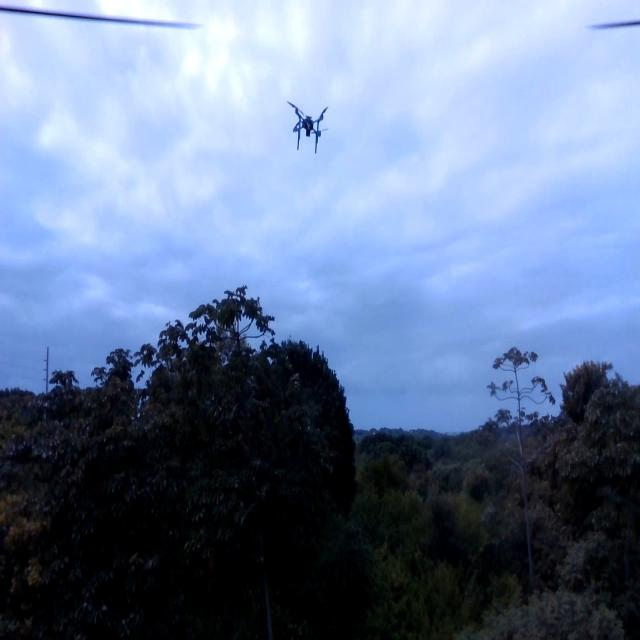-uav-: (280, 90, 338, 162)
